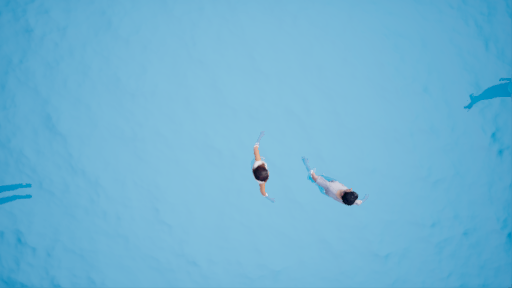person: (302, 160, 370, 208), (251, 131, 280, 207)
